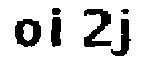2: (77, 6, 114, 49)
i: (49, 4, 73, 50)
j: (113, 6, 135, 60)
o: (12, 18, 43, 51)
